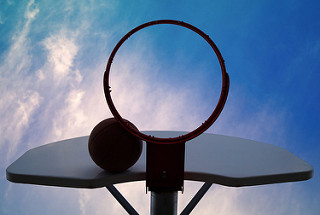basketball: (88, 117, 144, 173)
